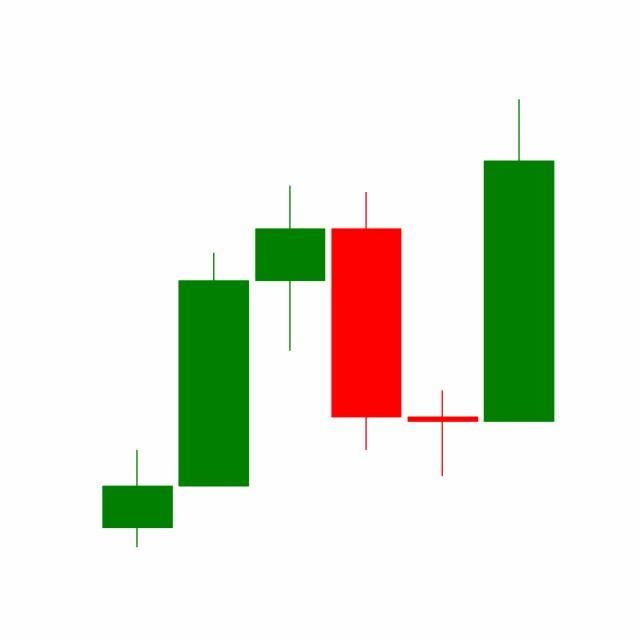Spinning Top: (404, 389, 482, 478)
